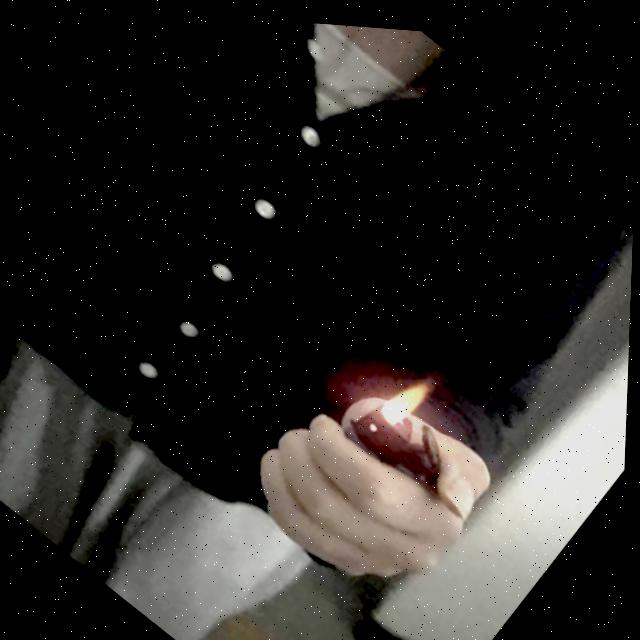Fire: (375, 362, 437, 430)
